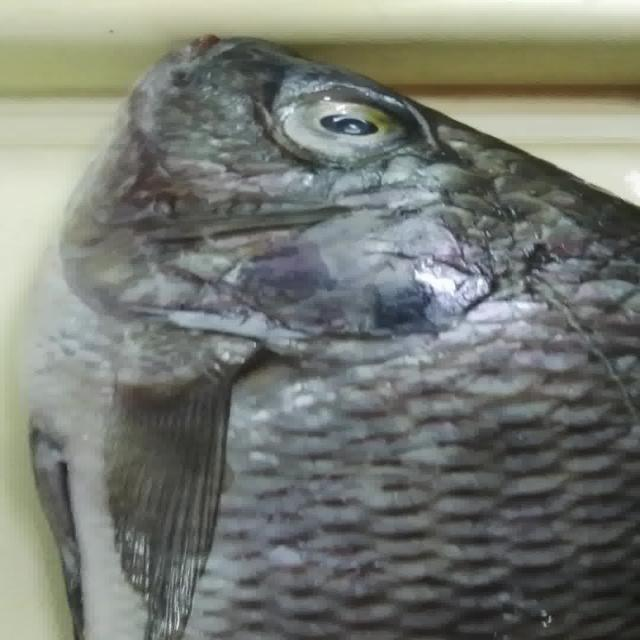Non-Fresh: (273, 81, 403, 167)
